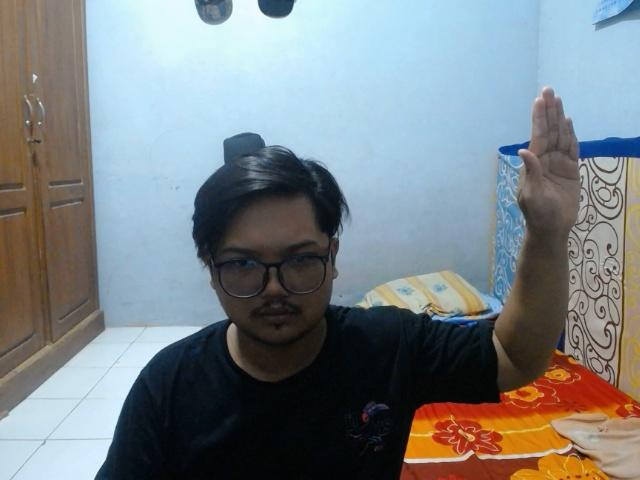Release: (513, 82, 582, 242)
